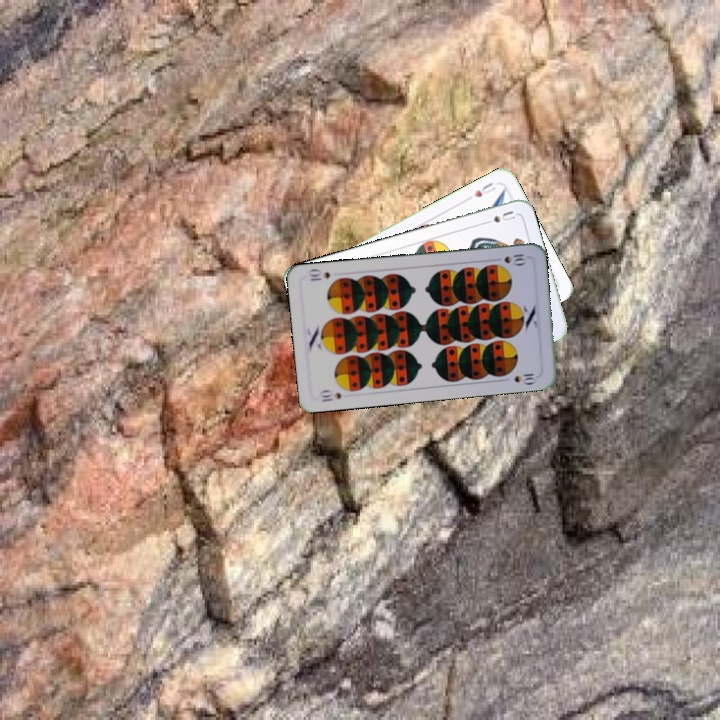HU: (470, 178, 498, 200)
S10: (489, 250, 528, 267), (316, 386, 344, 405)
SU: (478, 207, 518, 227)
